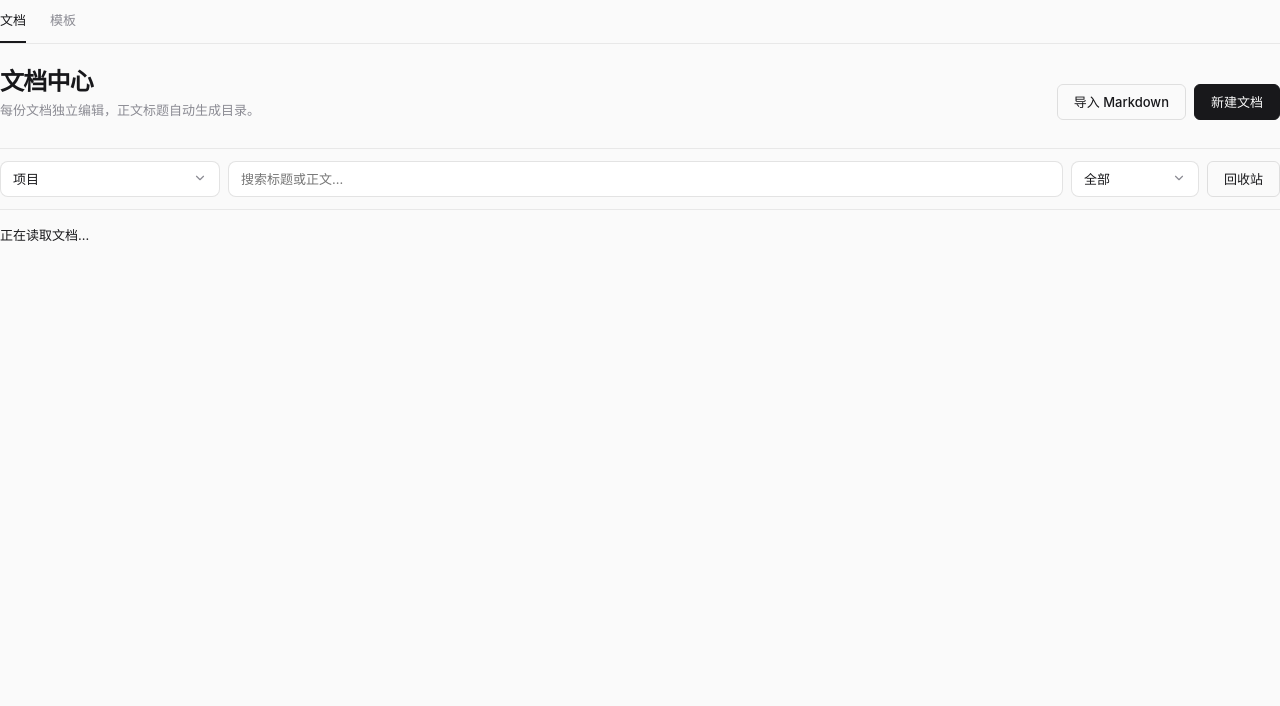
Test: shows documents and a unified native/legacy template catalog in the document center
Click the tab "模板". click: coordinates (63, 20)
box: [50,12,76,28]
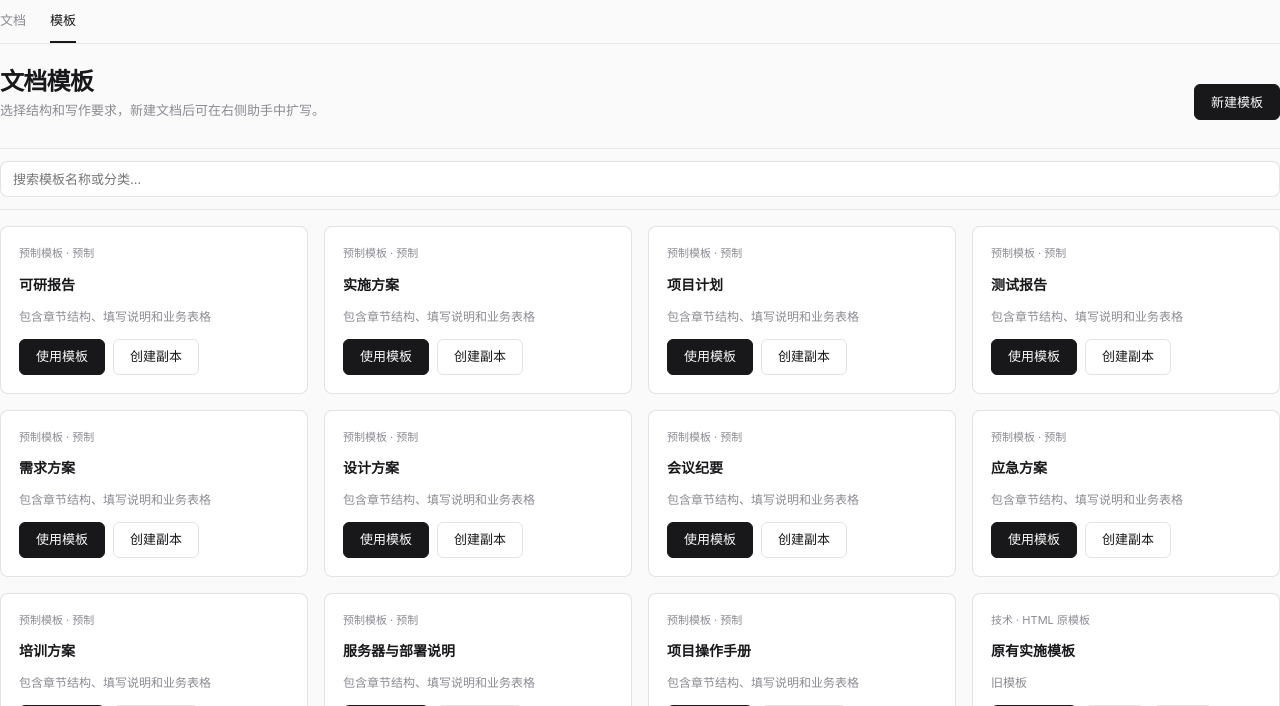
Check: the heading "原有实施模板" is shown, box [991,642,1075,659]
Check: the heading "可研报告" is shown, box [19,276,75,293]
Check: the heading "实施方案" is shown, box [343,276,399,293]
